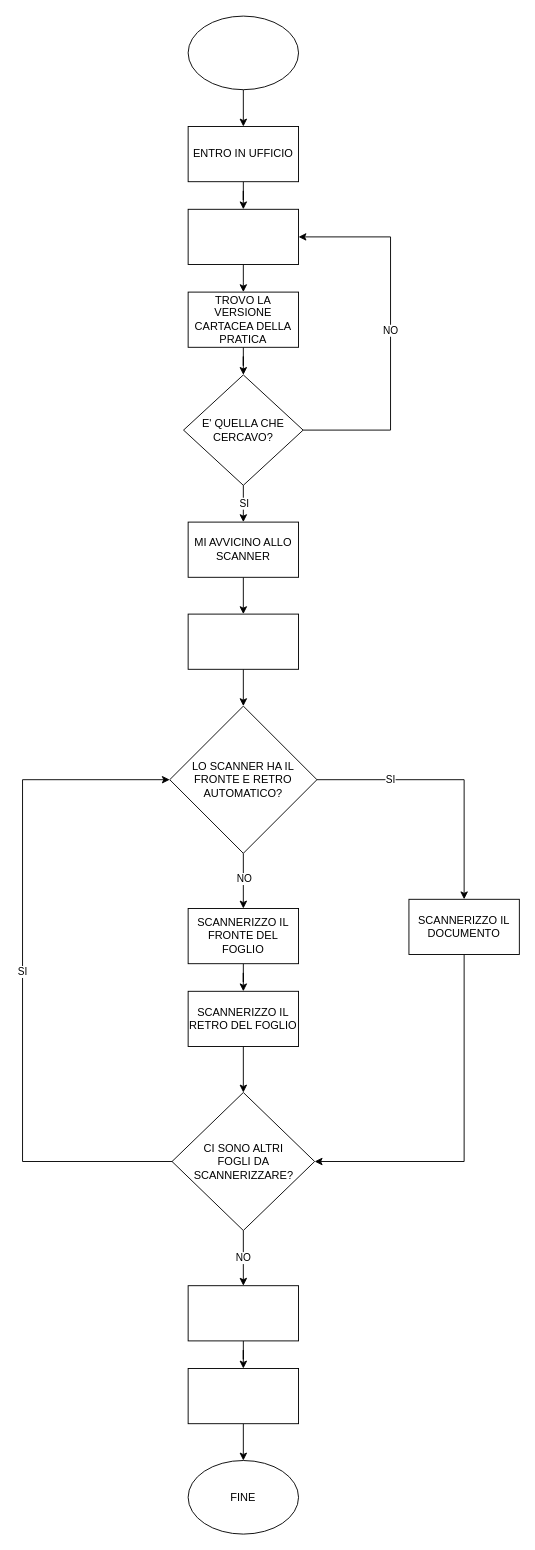
Some shapes in this 535 by 1550 pixel diagram are drawn without their labels. The shapes that lost their labels are listed below. From the top down, each one's centre as x and y in pixels, then its label:
(243,52): INIZIO
(243,236): CERCO TRA GLI ARCHIVI
(243,641): APRO LO SCANNER
(243,1313): PRENDO IL COMPUTER
(243,1396): ARCHIVIO IN FORMATO DIGITALE
